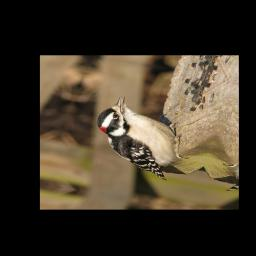Woodpecker: (79, 92, 209, 184)
